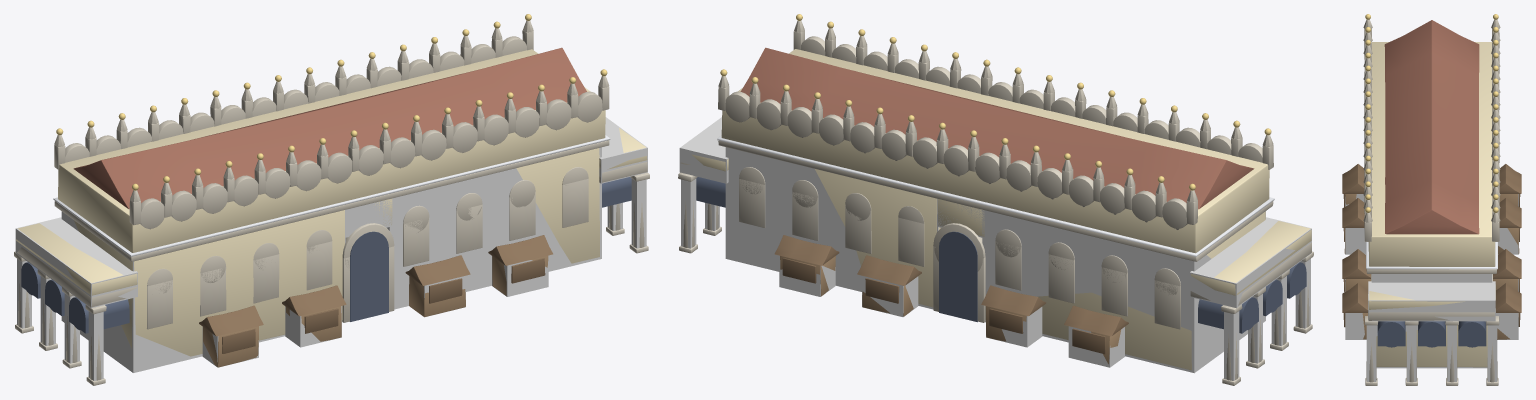
Rendered from sukiennice.glb.
3 renders of one model, left to right at view 1: azimuth 30°, elevation 25°; view 2: azimuth 150°, elevation 25°; view 3: azimuth 270°, elevation 25°, orthographic. The views are drawn at different scales.
Visible parts, largest first — view 1: sukiennice, sukiennice-col; view 2: sukiennice, sukiennice-col; view 3: sukiennice, sukiennice-col.
Boxes of the visible parts, bbox=[...] form: sukiennice: bbox=[14, 14, 649, 385]; sukiennice-col: bbox=[15, 117, 647, 380]; sukiennice: bbox=[678, 14, 1313, 385]; sukiennice-col: bbox=[679, 117, 1311, 380]; sukiennice: bbox=[1342, 14, 1521, 385]; sukiennice-col: bbox=[1345, 194, 1518, 381].
Size of the model in its own units: 40.43 by 13.22 by 13.35.
